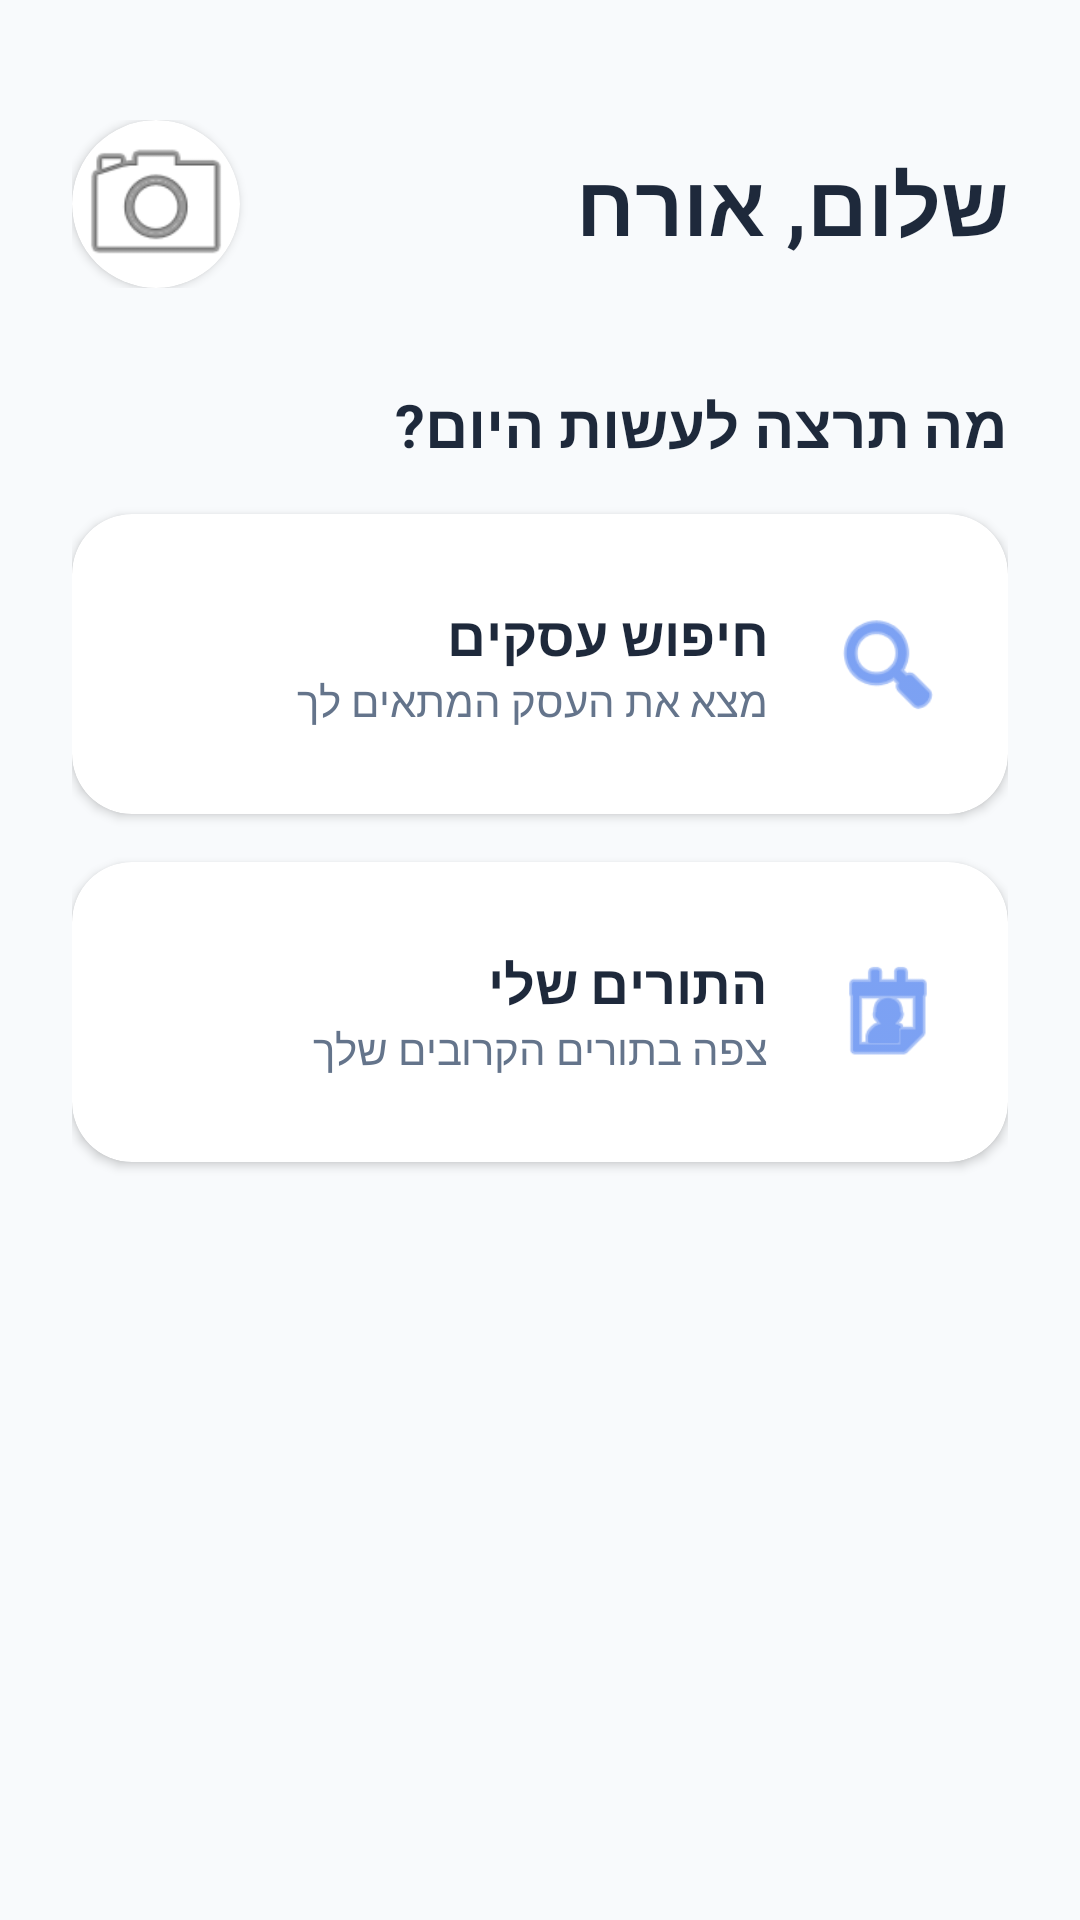

Screen size 1080px x 1920px. Icon name, then its box in pixels as bbox=[x1, y1, x2, y2]:
calendar: bbox=[849, 967, 927, 1055]
camera: bbox=[72, 150, 221, 288]
search: bbox=[844, 620, 932, 709]
